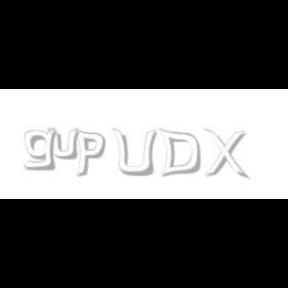D: (158, 128, 200, 178)
P: (74, 128, 106, 178)
U: (112, 128, 156, 178)
X: (203, 128, 247, 180)
g: (24, 128, 60, 171)
u: (48, 128, 82, 160)
